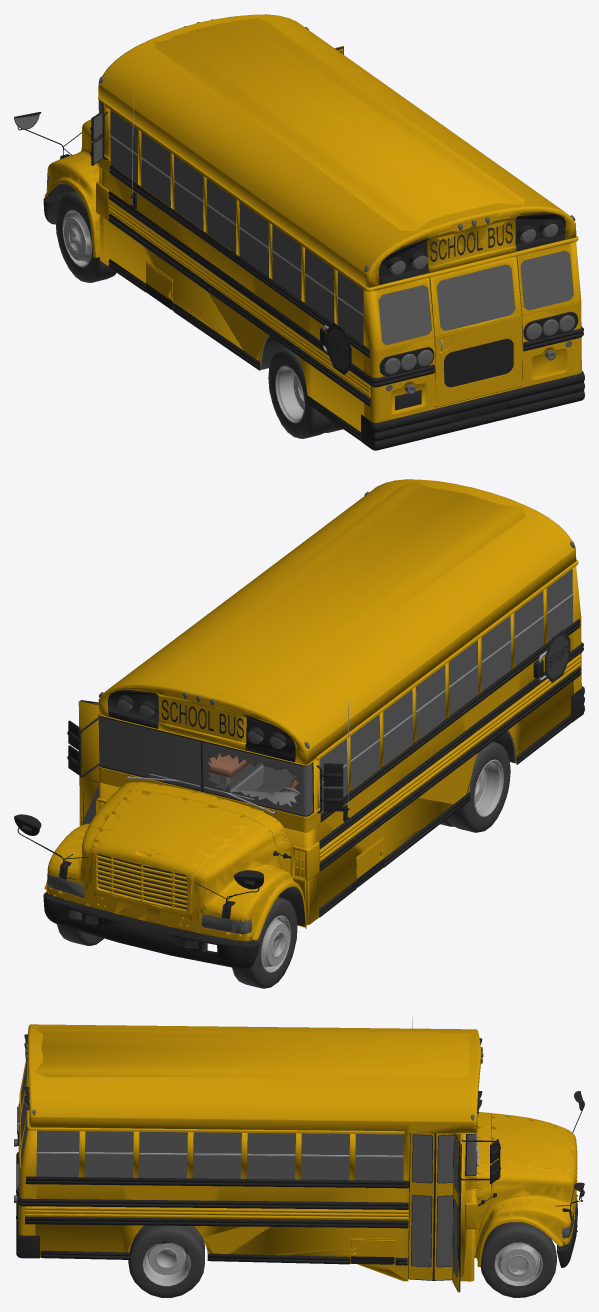
The model's file is school bus.fbx.
3 views of the same model, one above another, from view 1: azimuth 30°, elevation 25°; view 2: azimuth 150°, elevation 25°; view 3: azimuth 270°, elevation 25° (orthographic). The views are drawn at different scales.
Parts seen in each view (by area): view 1: School Bus, School Bus Lod; view 2: School Bus, School Bus Lod; view 3: School Bus, School Bus Lod, Door Close, Door Open.
Boxes of the visible parts, x1,y1,x2,y2 form: School Bus: (14,14,584,450); School Bus Lod: (14,14,584,450); School Bus: (14,479,584,988); School Bus Lod: (14,479,584,988); School Bus: (14,1017,584,1297); School Bus Lod: (16,1024,583,1297); Door Close: (408,1133,459,1280); Door Open: (452,1133,460,1292).
Size of the model in its own units: 335 by 317 by 774.
